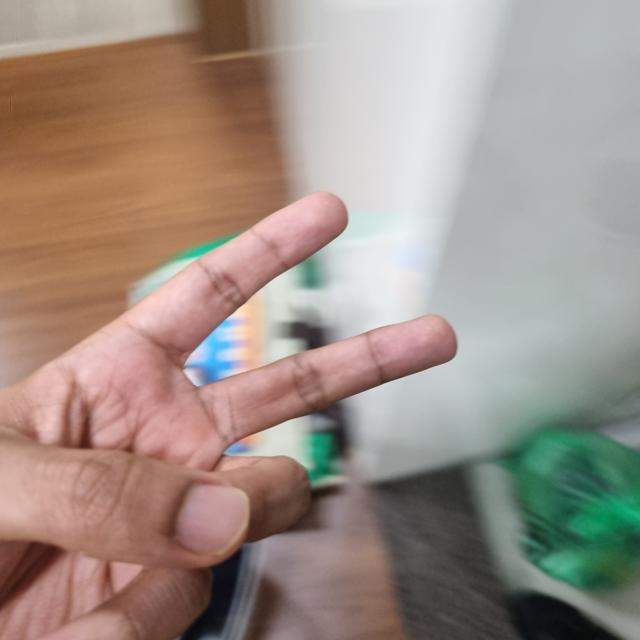Scissors: (0, 187, 456, 640)
